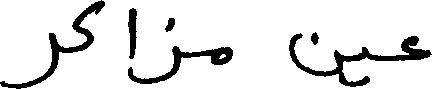X: (0, 28, 57, 88), (291, 27, 339, 86), (147, 13, 178, 88), (74, 0, 101, 56), (401, 31, 431, 65), (127, 3, 136, 86), (212, 42, 230, 69), (361, 42, 368, 88)
